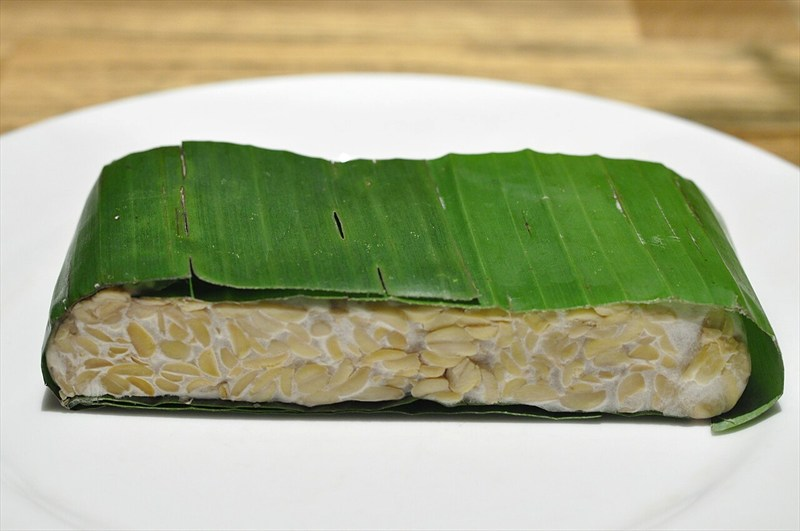Tempe Goreng: (57, 136, 768, 435)
